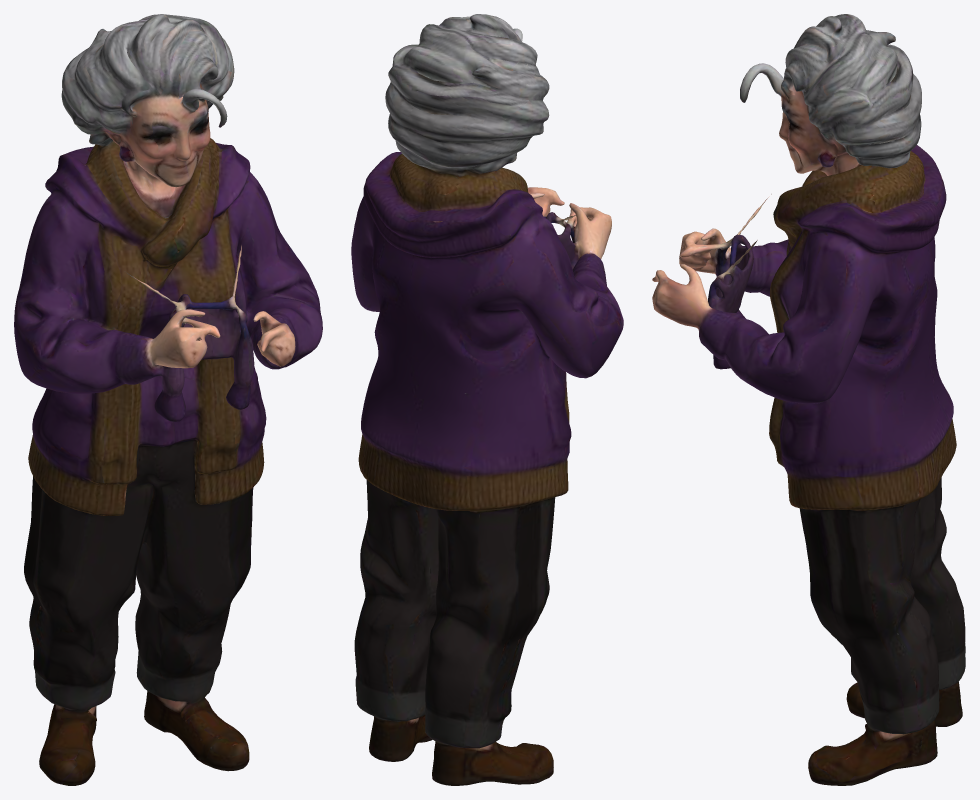
Rendered from agatha_knitting.glb.
The picture shows the model from 3 angles, left to right: view 1: azimuth 30°, elevation 25°; view 2: azimuth 150°, elevation 25°; view 3: azimuth 270°, elevation 25°; orthographic projection. The views are drawn at different scales.
Bounding box in the file's own units: 0.3439 × 0.9126 × 0.3562.
Materials: 1 (1 with a texture image).
